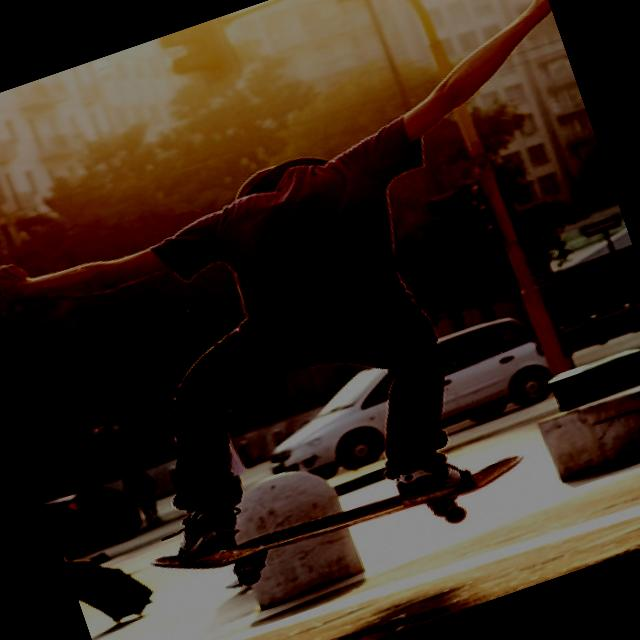Vehicle: (246, 308, 557, 494), (43, 470, 150, 562)
